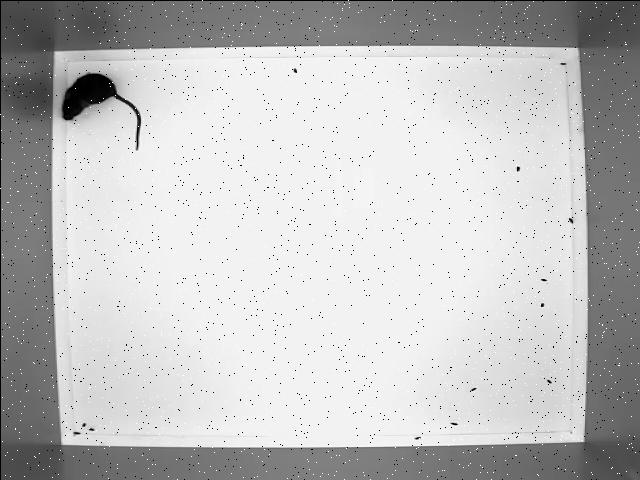Tikus: (54, 69, 148, 155)
